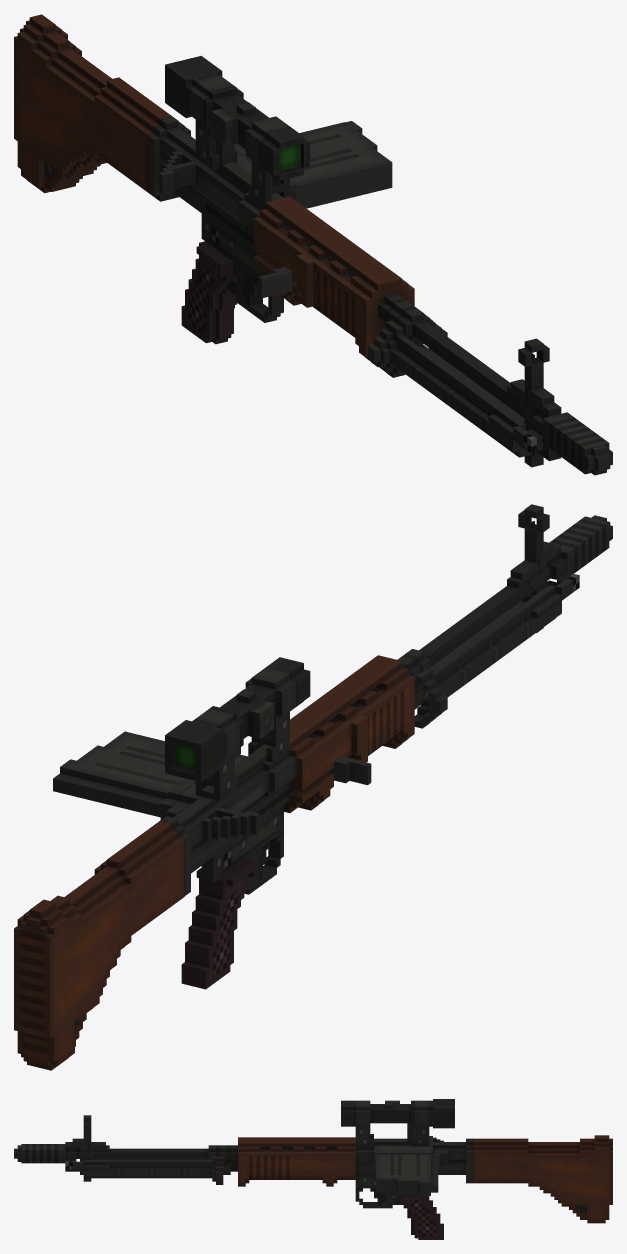
3 renders of one model, top to bottom at view 1: azimuth 30°, elevation 25°; view 2: azimuth 150°, elevation 25°; view 3: azimuth 270°, elevation 25°, orthographic. The views are drawn at different scales.
Visible parts, largest first — view 1: FG42, FG42_SCOPE2, FG42_DIPOD_LEG1, FG42_CLIP, FG42_BOLT; view 2: FG42, FG42_SCOPE2, FG42_CLIP, FG42_DIPOD_LEG1, FG42_BOLT; view 3: FG42, FG42_SCOPE2, FG42_DIPOD_LEG2, FG42_CLIP, FG42_DIPOD_LEG1.
Part boxes in pixels (x1,y1,x2,y2): FG42: [14, 14, 612, 475]; FG42_SCOPE2: [165, 55, 310, 208]; FG42_DIPOD_LEG1: [367, 320, 536, 457]; FG42_CLIP: [290, 121, 392, 208]; FG42_BOLT: [258, 267, 296, 298]; FG42: [14, 504, 612, 1070]; FG42_SCOPE2: [165, 657, 310, 800]; FG42_CLIP: [53, 731, 185, 817]; FG42_DIPOD_LEG1: [414, 573, 579, 728]; FG42_BOLT: [327, 756, 371, 785]; FG42: [14, 1115, 612, 1239]; FG42_SCOPE2: [341, 1099, 454, 1146]; FG42_DIPOD_LEG2: [65, 1156, 223, 1184]; FG42_CLIP: [376, 1154, 438, 1195]; FG42_DIPOD_LEG1: [76, 1158, 208, 1159].
Size of the model in its own units: 0.3248 by 0.3937 by 1.6.
1 material, 1 textured.
